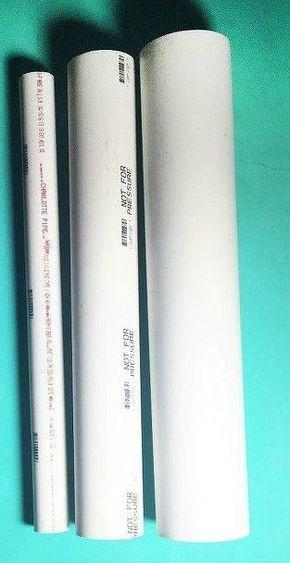PVC: (144, 29, 250, 544), (72, 47, 146, 542), (23, 69, 69, 534)
